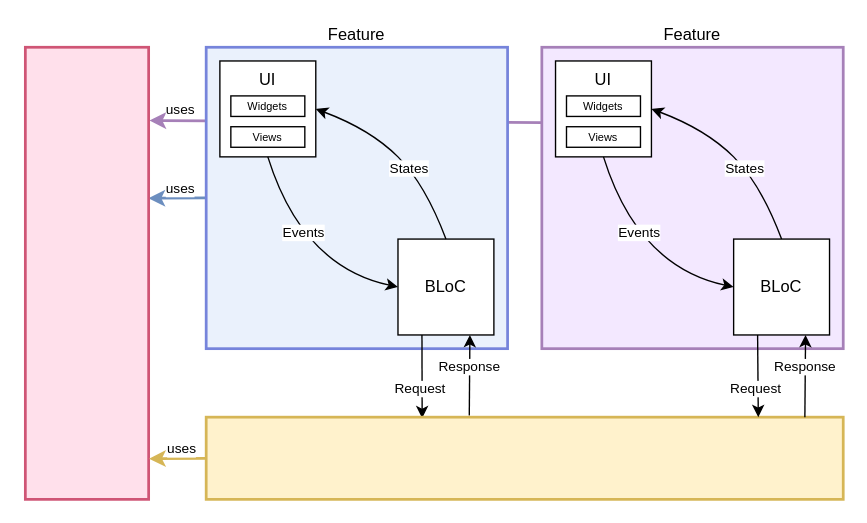
Image size: 867x523. Some labels were removed from this diagram. The shapes that lost their labels are listed below. From the top down, each one's box as (x1, y1, x2, y2) in pixels, then its label:
(23, 45, 149, 500): Entities
(204, 415, 844, 500): Repositories
